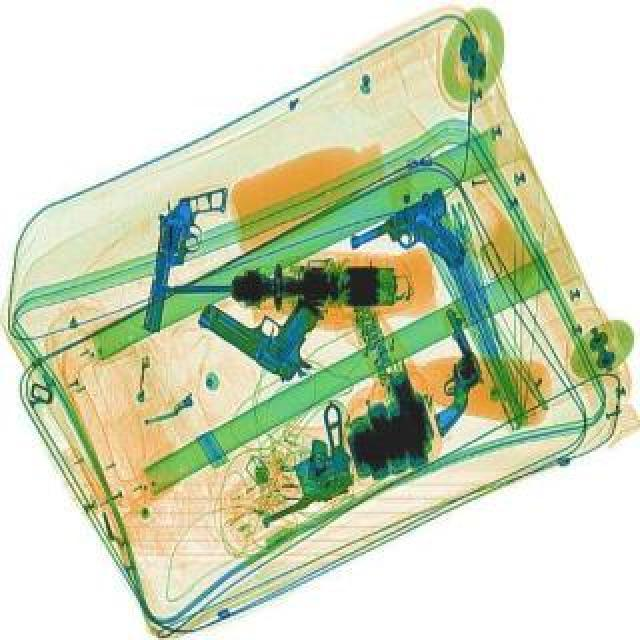gun: (226, 398, 382, 528), (194, 260, 342, 384), (346, 184, 482, 300), (392, 306, 504, 436), (140, 176, 230, 336)
